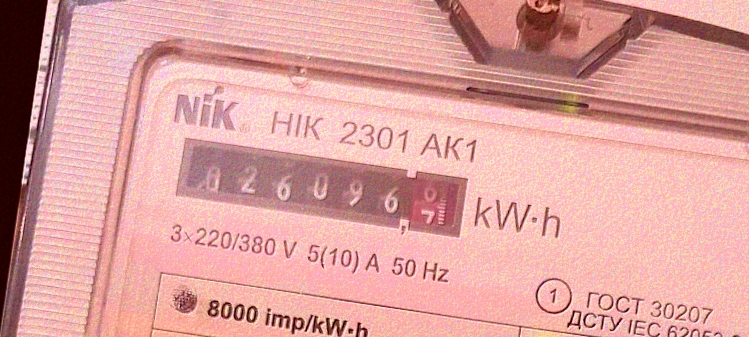0: (308, 167, 333, 205), (201, 160, 225, 194)
2: (237, 161, 262, 199)
6: (273, 168, 297, 206), (380, 181, 403, 216), (419, 176, 442, 206)
7: (417, 205, 438, 229)
9: (344, 176, 367, 210)
screen: (164, 126, 478, 250)
